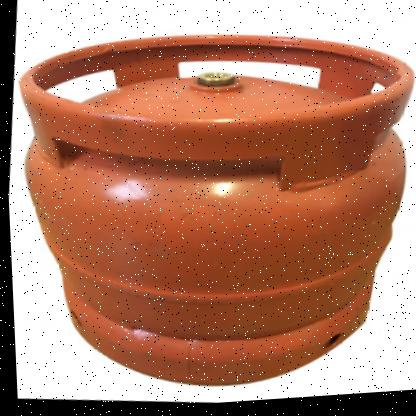gas-tank: (0, 4, 416, 415)
